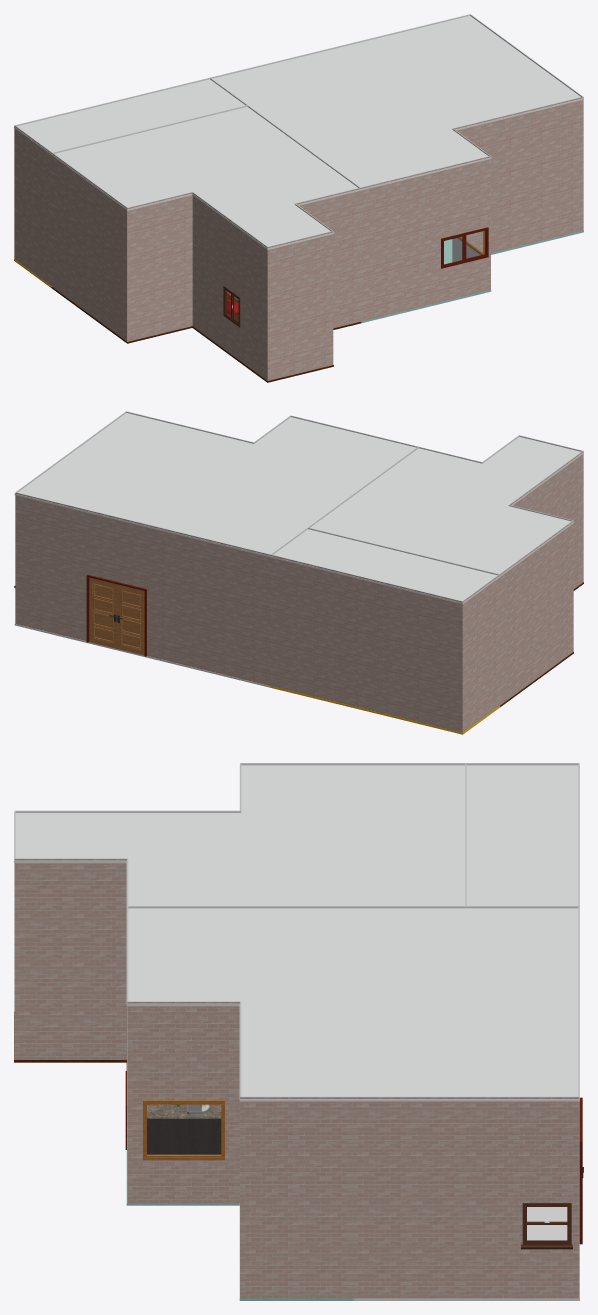
File: ProcTHOR-Train-3.glb
The picture shows the model from 3 angles, top to bottom: view 1: azimuth 30°, elevation 25°; view 2: azimuth 150°, elevation 25°; view 3: azimuth 270°, elevation 25°; orthographic projection. The views are drawn at different scales.
Parts seen in each view (by area): view 1: Ceiling#room|4|c, Ceiling#room|7|c, WallInside#wall|exterior|4.20|8.39|8.39|8.39, Ceiling#room|6|c, WallInside#wall|exterior|0.00|6.29|4.20|6.29, WallInside#wall|exterior|14.68|2.10|14.68|6.29, WallInside#wall|exterior|12.59|6.29|12.59|10.49, WallInside#wall|exterior|10.49|10.49|12.59|10.49, WallInside#wall|exterior|12.59|6.29|14.68|6.29, Ceiling#room|5|c, WallInside#wall|exterior|14.68|0.00|14.68|2.10, WallInside#wall|exterior|8.39|8.39|10.49|8.39 (+4 smaller); view 2: WallInside#wall|exterior|0.00|0.00|8.39|0.00, WallInside#wall|exterior|8.39|0.00|14.68|0.00, Ceiling#room|4|c, Ceiling#room|7|c, Ceiling#room|6|c, WallInside#wall|exterior|14.68|2.10|14.68|6.29, Ceiling#room|5|c, WallInside#wall|exterior|14.68|0.00|14.68|2.10, WallInside#wall|exterior|12.59|6.29|12.59|10.49, Doorway_Door_7b, Doorway_Door_7a, Doorway_Double_7 (+2 smaller); view 3: Ceiling#room|4|c, Ceiling#room|7|c, WallInside#wall|exterior|0.00|0.00|0.00|4.20, Ceiling#room|6|c, WallInside#wall|exterior|0.00|4.20|0.00|6.29, WallInside#wall|exterior|10.49|8.39|10.49|10.49, WallInside#wall|exterior|4.20|6.29|4.20|8.39, Ceiling#room|5|c, Countertop_C_8x10, Floor#room|7|f, Window_Fixed_60x48, Window_Hung_36x32 (+2 smaller).
Boxes of the visible parts, <box> form: Ceiling#room|4|c: <box>51,107,361,249</box>; Ceiling#room|7|c: <box>212,16,544,133</box>; WallInside#wall|exterior|4.20|8.39|8.39|8.39: <box>360,156,490,321</box>; Ceiling#room|6|c: <box>287,70,583,190</box>; WallInside#wall|exterior|0.00|6.29|4.20|6.29: <box>453,97,583,253</box>; WallInside#wall|exterior|14.68|2.10|14.68|6.29: <box>52,153,127,341</box>; WallInside#wall|exterior|12.59|6.29|12.59|10.49: <box>192,192,267,380</box>; WallInside#wall|exterior|10.49|10.49|12.59|10.49: <box>267,231,333,380</box>; WallInside#wall|exterior|12.59|6.29|14.68|6.29: <box>127,192,192,341</box>; Ceiling#room|5|c: <box>14,79,245,155</box>; WallInside#wall|exterior|14.68|0.00|14.68|2.10: <box>14,125,52,286</box>; WallInside#wall|exterior|8.39|8.39|10.49|8.39: <box>296,188,360,328</box>; WallInside#wall|exterior|0.00|0.00|8.39|0.00: <box>15,492,271,685</box>; WallInside#wall|exterior|8.39|0.00|14.68|0.00: <box>270,554,462,732</box>; Ceiling#room|4|c: <box>310,437,583,576</box>; Ceiling#room|7|c: <box>14,439,344,557</box>; Ceiling#room|6|c: <box>90,413,416,501</box>; WallInside#wall|exterior|14.68|2.10|14.68|6.29: <box>499,520,573,705</box>; Ceiling#room|5|c: <box>270,529,500,604</box>; WallInside#wall|exterior|14.68|0.00|14.68|2.10: <box>462,574,499,732</box>; WallInside#wall|exterior|12.59|6.29|12.59|10.49: <box>509,451,583,588</box>; Doorway_Door_7b: <box>89,577,116,648</box>; Doorway_Door_7a: <box>117,584,144,655</box>; Doorway_Double_7: <box>86,575,146,656</box>; Ceiling#room|4|c: <box>14,765,467,908</box>; Ceiling#room|7|c: <box>352,908,579,1101</box>; WallInside#wall|exterior|0.00|0.00|0.00|4.20: <box>353,1097,579,1298</box>; Ceiling#room|6|c: <box>126,908,354,1101</box>; WallInside#wall|exterior|0.00|4.20|0.00|6.29: <box>240,1097,353,1298</box>; WallInside#wall|exterior|10.49|8.39|10.49|10.49: <box>14,858,127,1059</box>; WallInside#wall|exterior|4.20|6.29|4.20|8.39: <box>127,1001,240,1202</box>; Ceiling#room|5|c: <box>465,765,579,908</box>; Countertop_C_8x10: <box>147,1104,221,1154</box>; Floor#room|7|f: <box>352,1207,579,1300</box>; Window_Fixed_60x48: <box>143,1100,224,1160</box>; Window_Hung_36x32: <box>521,1203,572,1249</box>.
Size of what is drawn, in the model's own units: 14.82 by 4.17 by 10.6.
Materials: 318 (135 with a texture image).
